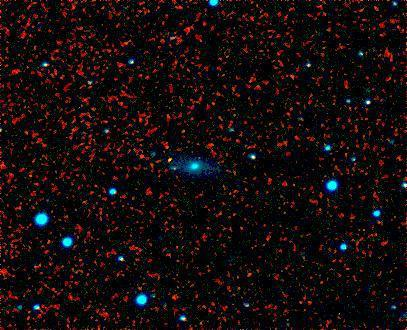star: (155, 144, 185, 174)
